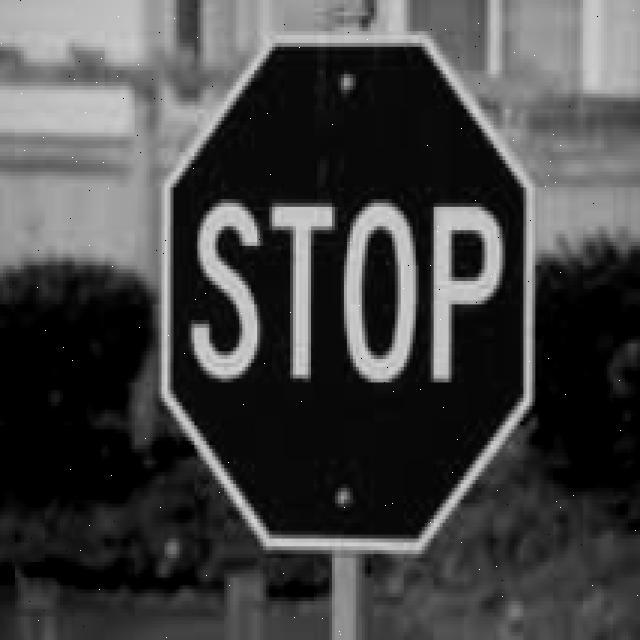Stop-signs: (162, 38, 536, 550)
